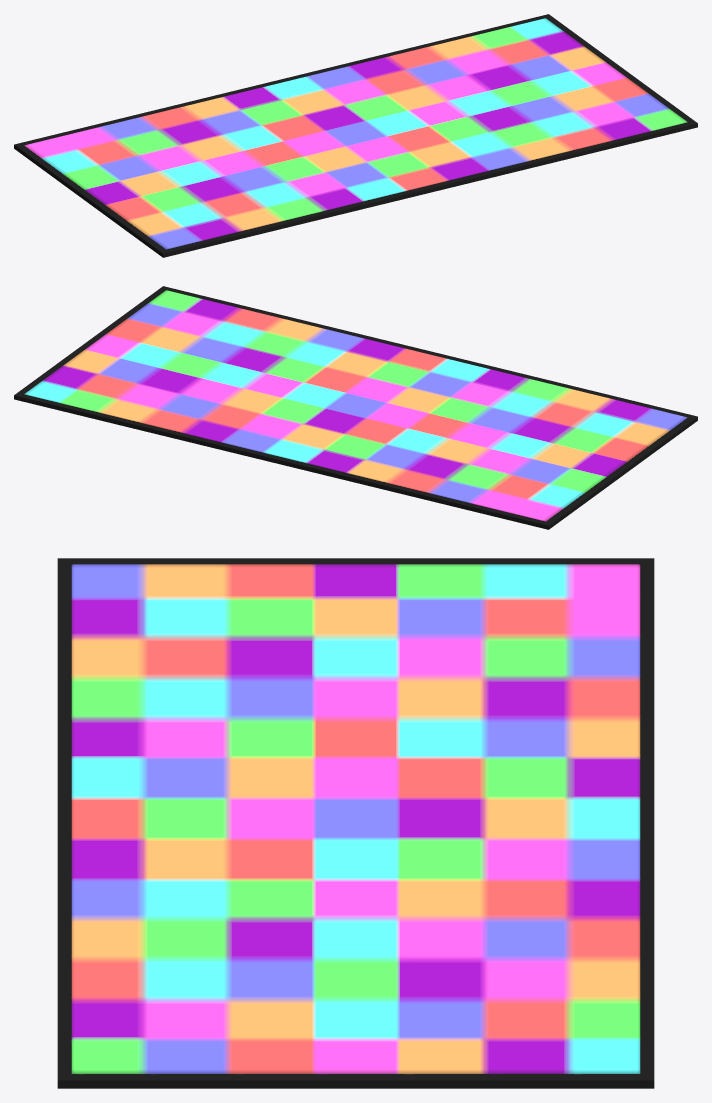
The model's file is finaldancefloor.fbx.
The picture shows the model from 3 angles, top to bottom: view 1: azimuth 30°, elevation 25°; view 2: azimuth 150°, elevation 25°; view 3: azimuth 270°, elevation 25°; orthographic projection. The views are drawn at different scales.
Parts seen in each view (by area): view 1: dance_floor; view 2: dance_floor; view 3: dance_floor.
Boxes of the visible parts, x1,y1,x2,y2 form: dance_floor: (14, 14, 697, 257); dance_floor: (14, 286, 697, 529); dance_floor: (57, 558, 654, 1088).
Bounding box in the file's own units: 1653 × 13.06 × 799.
Materials: 1 (1 with a texture image).
